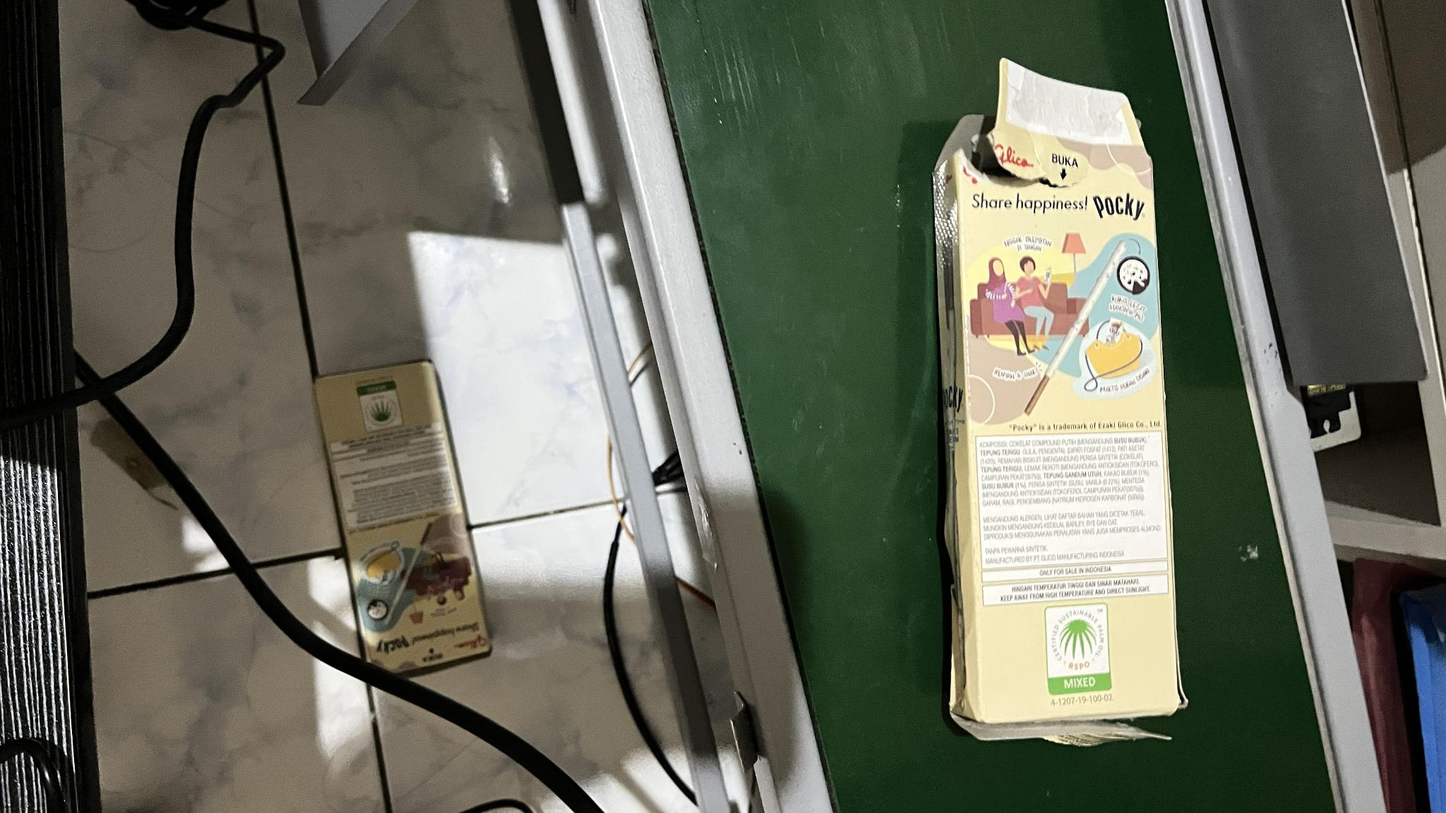Kertas: (936, 142, 1187, 719)
